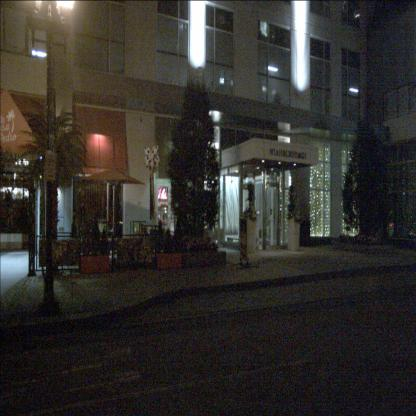movable_object-barrier: (80, 255, 110, 275), (156, 253, 183, 270), (182, 253, 207, 268), (204, 251, 226, 266)
